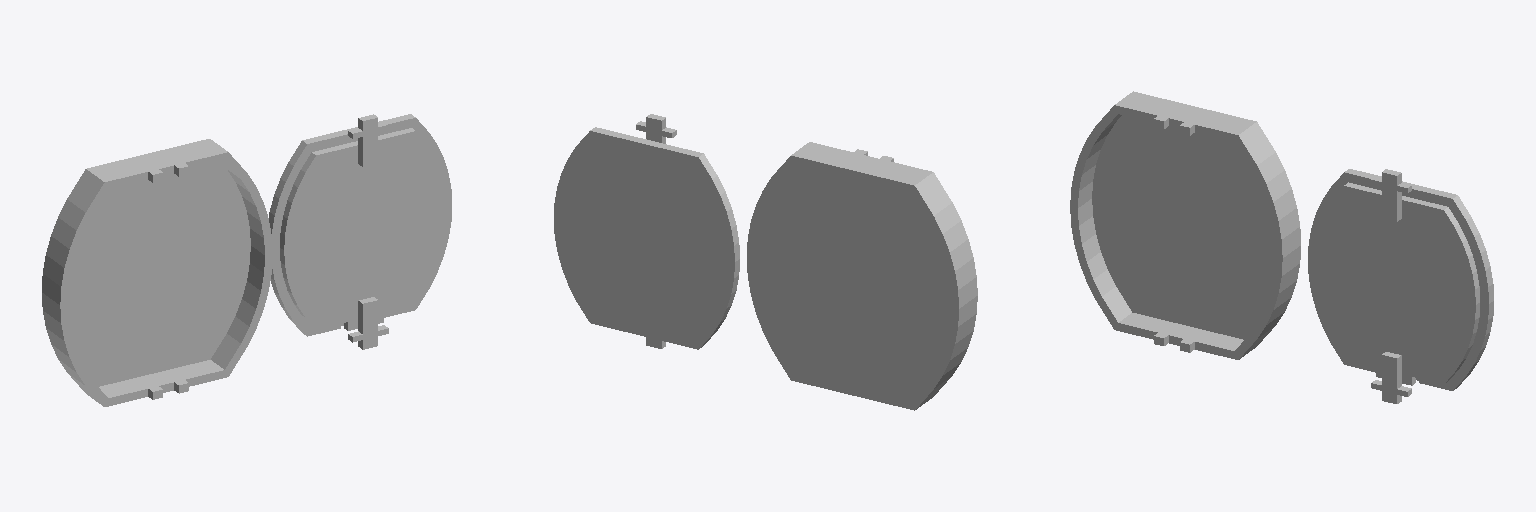
File: CaseMold.obj
3 views of the same model, side by side, from view 1: azimuth 30°, elevation 25°; view 2: azimuth 150°, elevation 25°; view 3: azimuth 330°, elevation 25° (orthographic).
Parts seen in each view (by area): view 1: DefaultMaterial~1; view 2: DefaultMaterial~1; view 3: DefaultMaterial~1.
Boxes of the visible parts, <box> form: DefaultMaterial~1: <box>42,114,451,406</box>; DefaultMaterial~1: <box>554,114,977,410</box>; DefaultMaterial~1: <box>1070,91,1493,403</box>.
Bounding box in the file's own units: 0.1565 × 0.0867 × 0.0155.